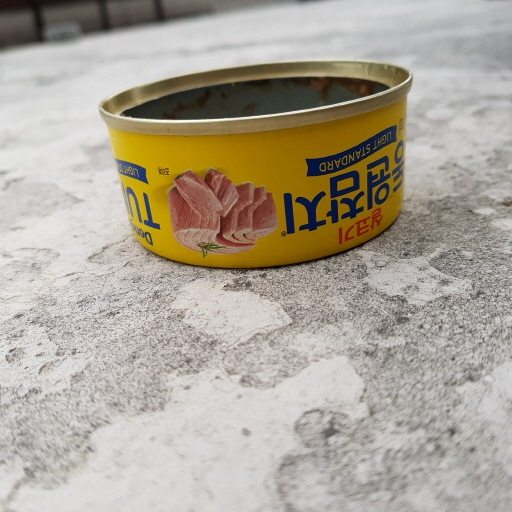Metal_1: (96, 57, 414, 267)
